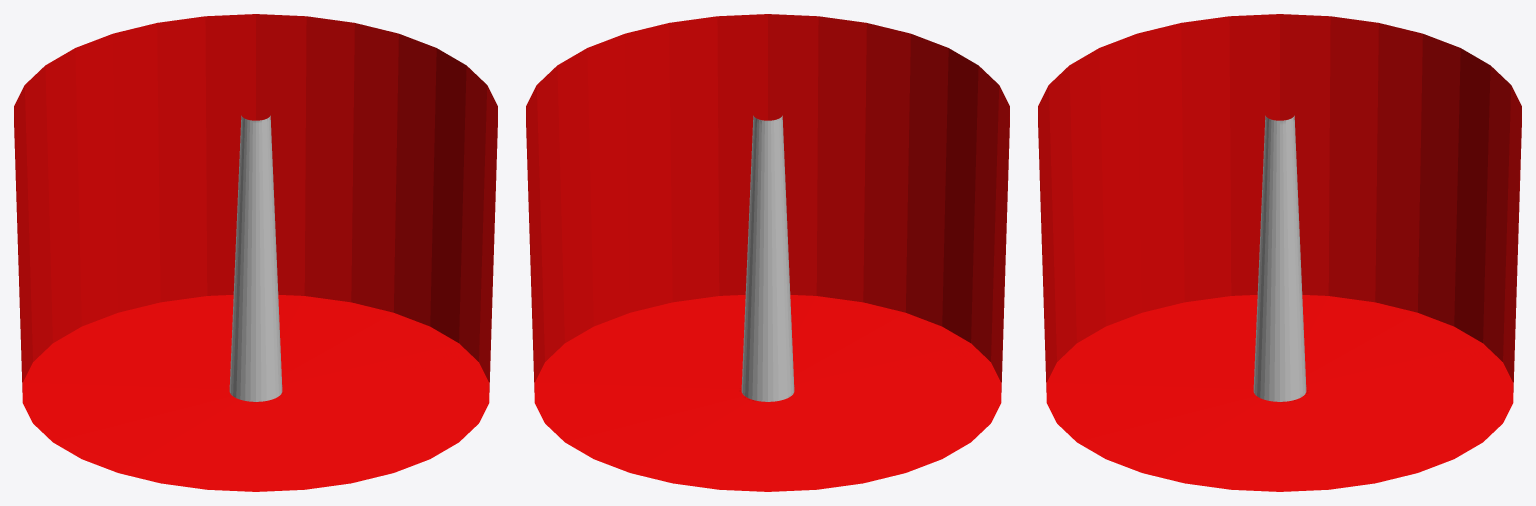
The picture shows the model from 3 angles, left to right: view 1: azimuth 30°, elevation 25°; view 2: azimuth 150°, elevation 25°; view 3: azimuth 270°, elevation 25°; orthographic projection.
Parts seen in each view (by area): view 1: algeomath; view 2: algeomath; view 3: algeomath.
Boxes of the visible parts, x1,y1,x2,y2 form: algeomath: (14,14,497,491); algeomath: (526,14,1009,491); algeomath: (1038,14,1521,491).
Size of the model in its own units: 9.43 by 5.95 by 9.38.
1 material, 1 textured.
